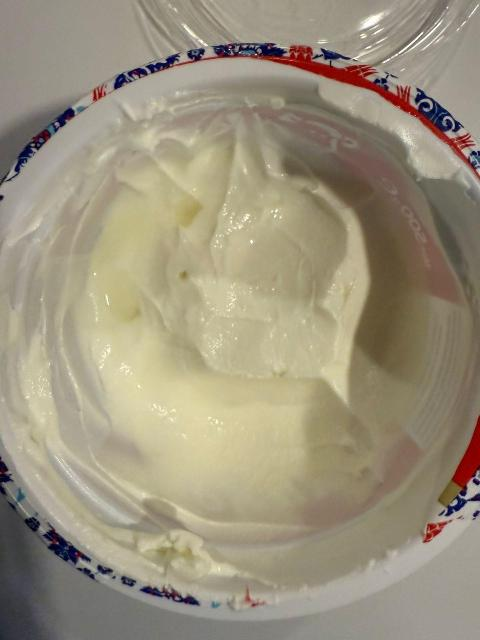Organik: (151, 175, 341, 489)
